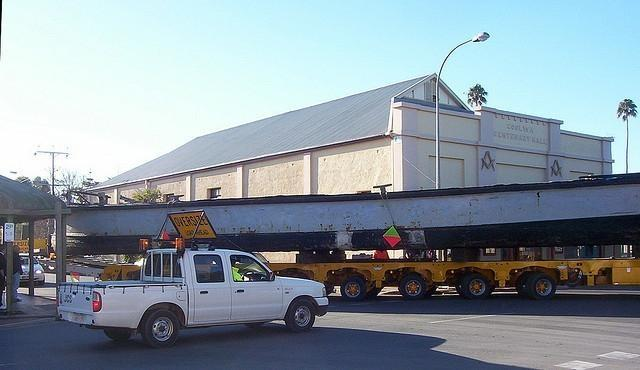car: (19, 253, 45, 286)
truck: (56, 210, 330, 348), (263, 256, 640, 302)
